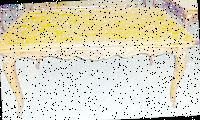Mesa: (0, 2, 199, 119)
